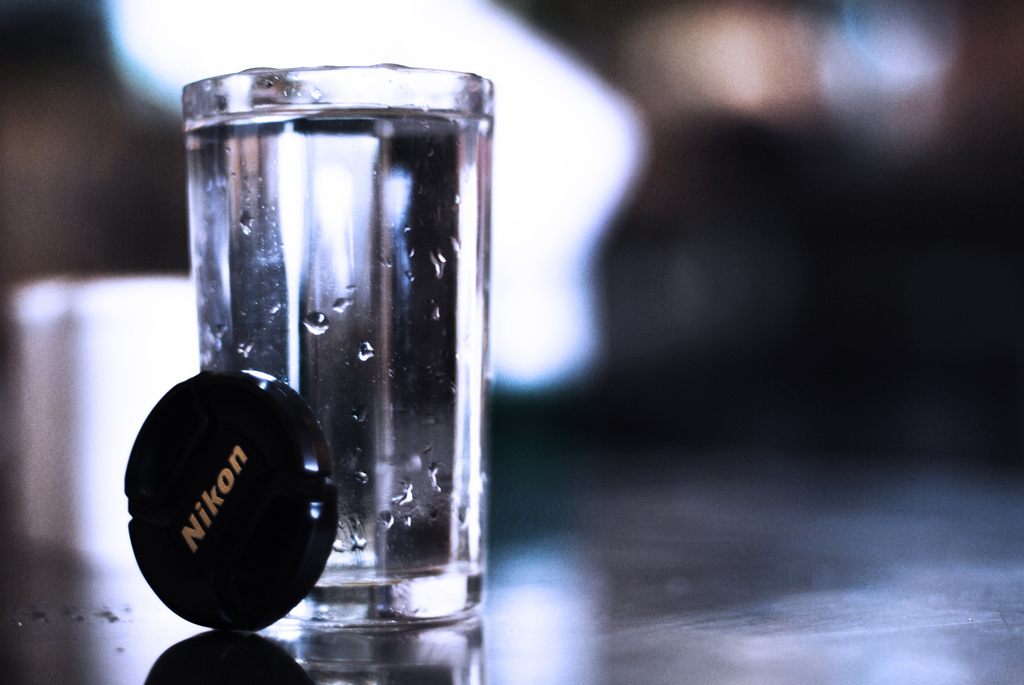glass of water: (175, 78, 496, 616)
